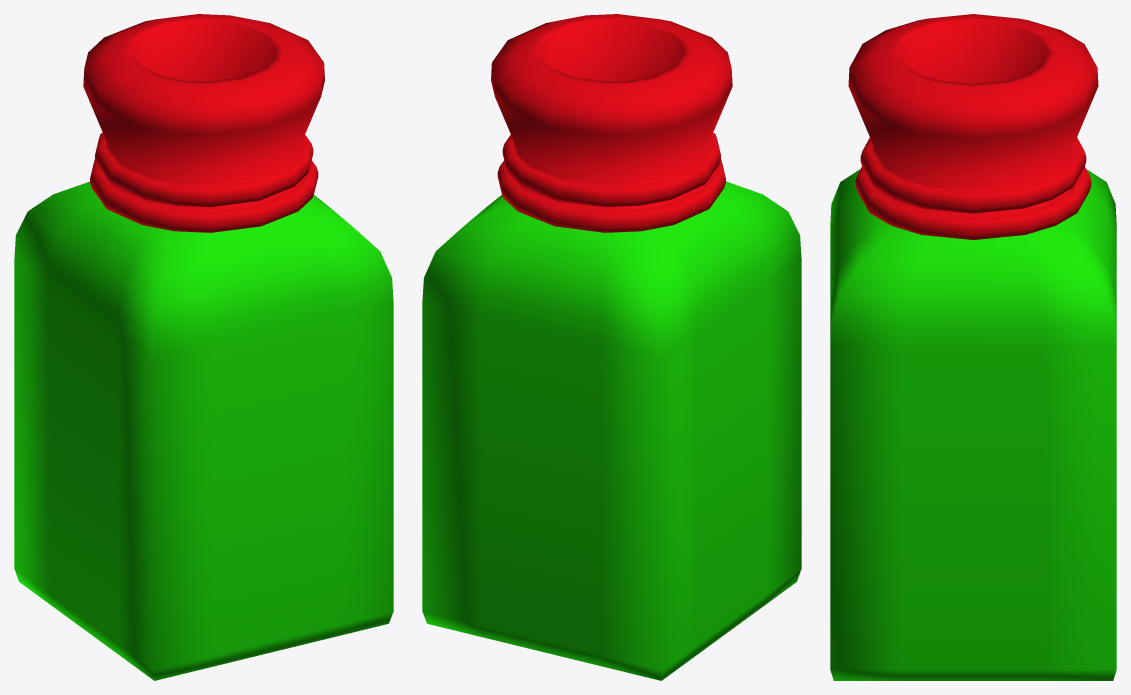
Rendered from shaker.fbx.
3 renders of one model, left to right at view 1: azimuth 30°, elevation 25°; view 2: azimuth 150°, elevation 25°; view 3: azimuth 270°, elevation 25°, orthographic. The views are drawn at different scales.
Visible parts, largest first — view 1: Cube; view 2: Cube; view 3: Cube.
Part boxes in pixels (x1=…): Cube: x1=14, y1=14, x2=393, y2=680; Cube: x1=422, y1=14, x2=801, y2=680; Cube: x1=830, y1=14, x2=1116, y2=680.
Size of the model in its own units: 120 by 265 by 120.
